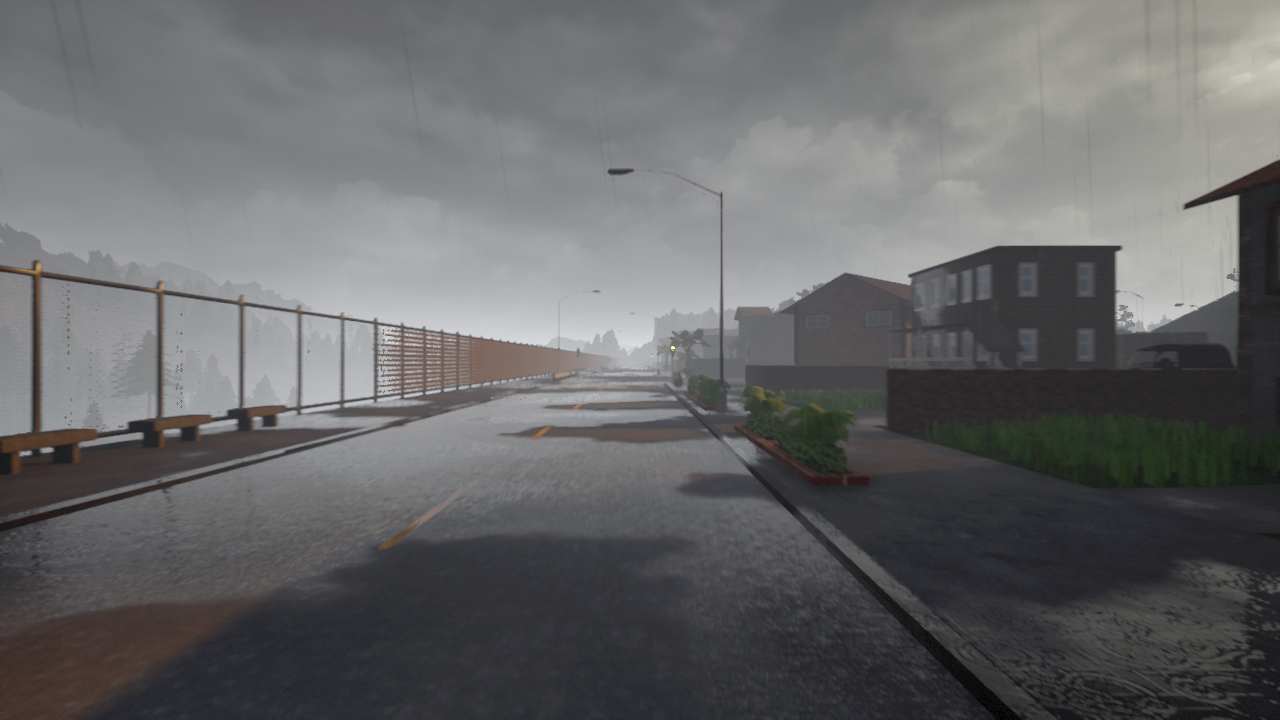yellow: (669, 342, 676, 358)
